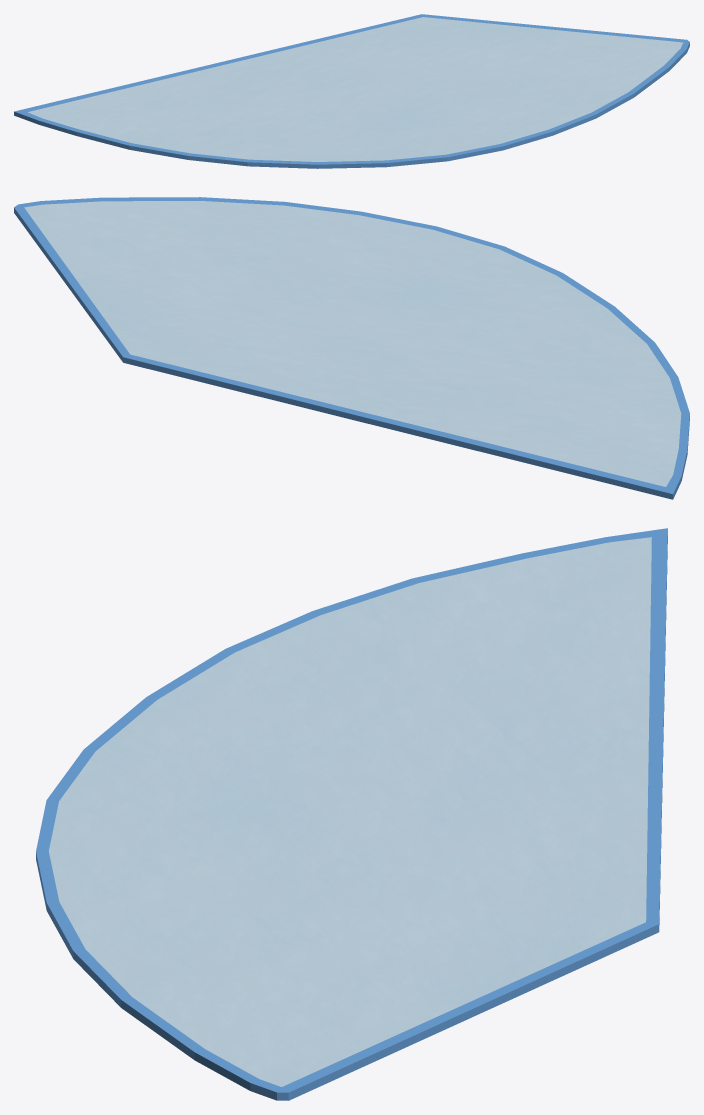
File: mesh_1002_syq_sd005_2.FBX
3 views of the same model, one above another, from view 1: azimuth 30°, elevation 25°; view 2: azimuth 150°, elevation 25°; view 3: azimuth 270°, elevation 25° (orthographic). The views are drawn at different scales.
Parts seen in each view (by area): view 1: mesh_1002_syq_sd005_2b, mesh_1002_syq_sd005_2; view 2: mesh_1002_syq_sd005_2b, mesh_1002_syq_sd005_2; view 3: mesh_1002_syq_sd005_2b, mesh_1002_syq_sd005_2.
Boxes of the visible parts, box(x1,y1,x2,y2) form: mesh_1002_syq_sd005_2b: box(28, 17, 683, 161); mesh_1002_syq_sd005_2: box(14, 14, 689, 168); mesh_1002_syq_sd005_2b: box(24, 201, 681, 486); mesh_1002_syq_sd005_2: box(14, 197, 689, 499); mesh_1002_syq_sd005_2b: box(48, 537, 651, 1086); mesh_1002_syq_sd005_2: box(36, 528, 667, 1100).
Size of the model in its own units: 5243 by 35.41 by 2481.
Materials: 2 (2 with a texture image).
